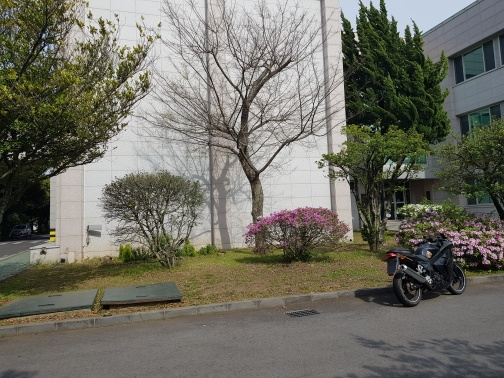College of Nursing: (21, 12, 486, 227)
